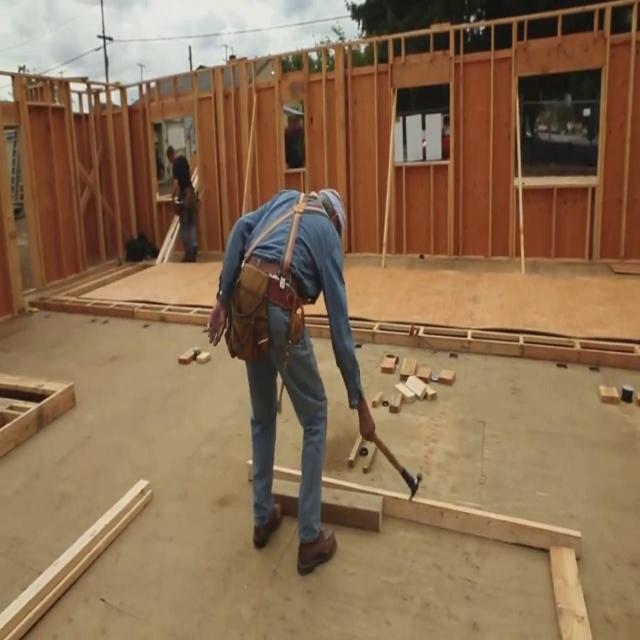hammer: (372, 433, 422, 501)
